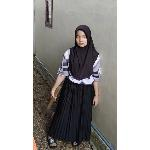Kapak: (43, 84, 63, 118)
